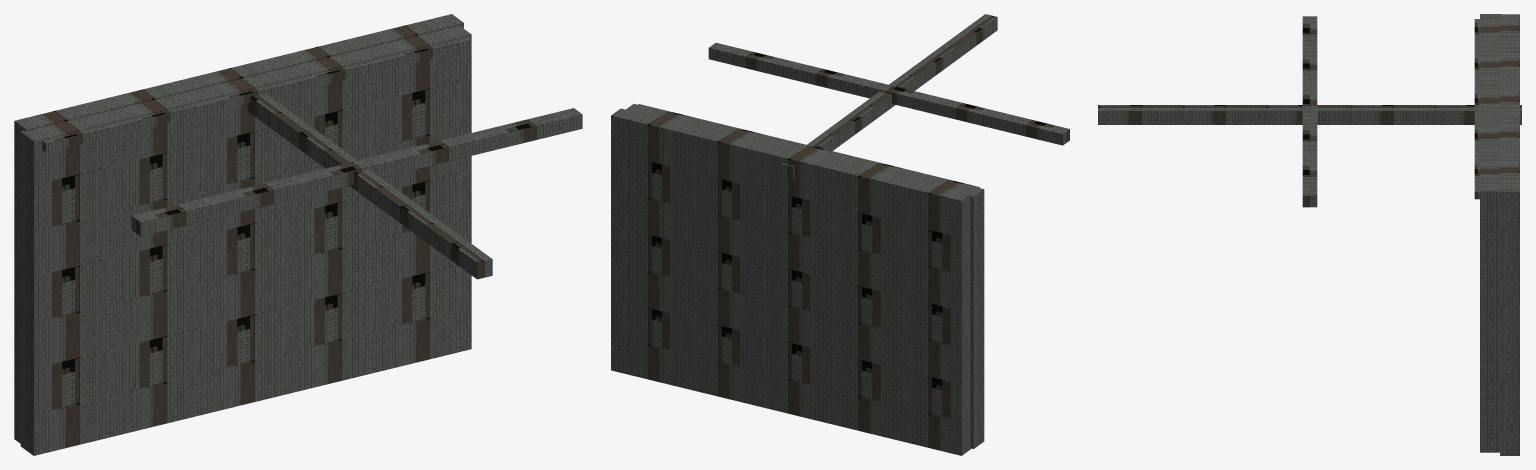
The model's file is dungeon_room_wall_rise.glb.
3 views of the same model, side by side, from view 1: azimuth 30°, elevation 25°; view 2: azimuth 150°, elevation 25°; view 3: azimuth 270°, elevation 25° (orthographic). The views are drawn at different scales.
Parts seen in each view (by area): view 1: dungeon_room_wall_rise; view 2: dungeon_room_wall_rise; view 3: dungeon_room_wall_rise.
Part boxes in pixels (x1,y1,x2,y2): dungeon_room_wall_rise: (14, 14, 582, 455); dungeon_room_wall_rise: (611, 14, 1069, 455); dungeon_room_wall_rise: (1098, 14, 1521, 455).
Size of the model in its own units: 5.05 by 3.47 by 5.05.
Materials: 1 (1 with a texture image).
